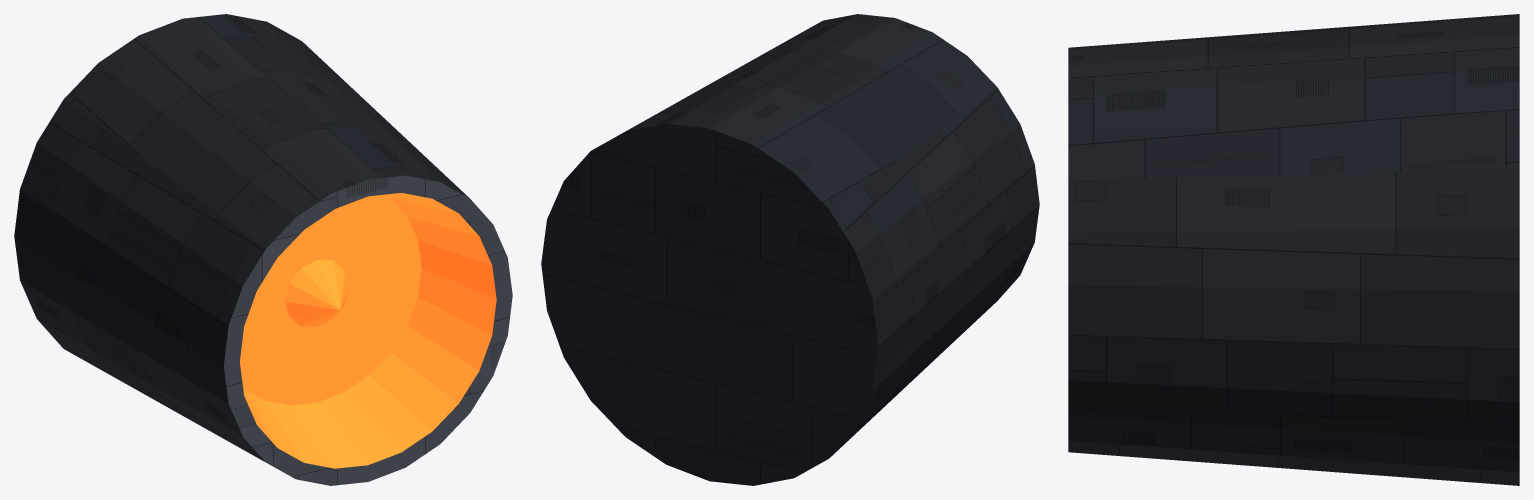
The model's file is juggernaut_thruster_pod.glb.
3 views of the same model, side by side, from view 1: azimuth 30°, elevation 25°; view 2: azimuth 150°, elevation 25°; view 3: azimuth 270°, elevation 25° (orthographic). The views are drawn at different scales.
Visible parts, largest first — view 1: Juggernaut_ThrusterPod_L; view 2: Juggernaut_ThrusterPod_L; view 3: Juggernaut_ThrusterPod_L.
Part boxes in pixels (box(x1,y1,x2,y2)): Juggernaut_ThrusterPod_L: box(14, 14, 512, 485); Juggernaut_ThrusterPod_L: box(541, 14, 1039, 485); Juggernaut_ThrusterPod_L: box(1068, 14, 1519, 485).
Bounding box in the file's own units: 63 × 63 × 60.
3 materials, 2 textured.
